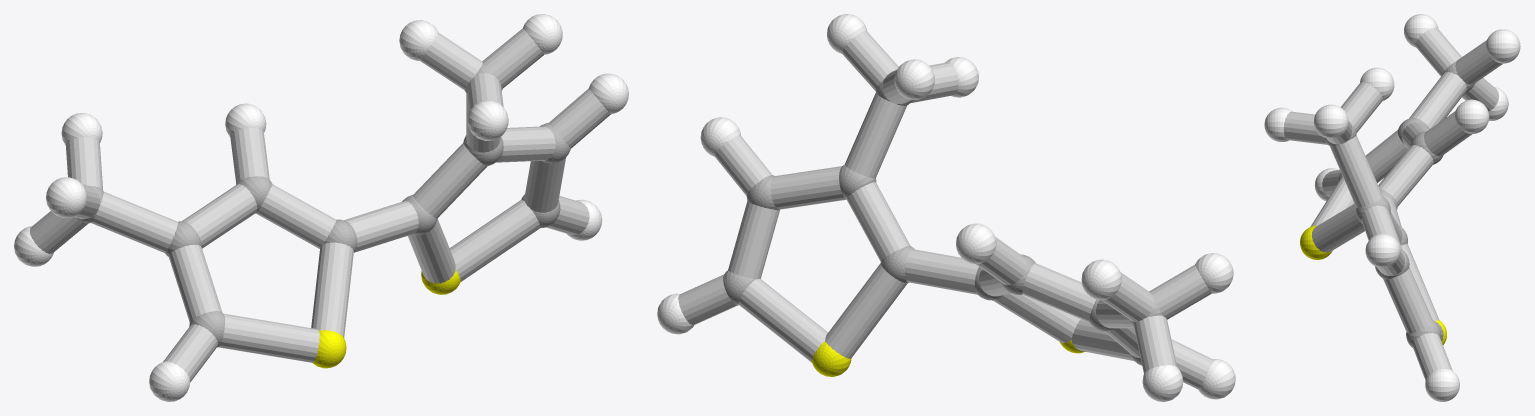
File: Methylthiophene_Phi_10_Theta_250_Methylthiophene.glb
3 views of the same model, side by side, from view 1: azimuth 30°, elevation 25°; view 2: azimuth 150°, elevation 25°; view 3: azimuth 270°, elevation 25° (orthographic). The views are drawn at different scales.
Visible parts, largest first — view 1: grp7965, grp3621, grp1, grp7241; view 2: grp7965, grp3621, grp1, grp7241; view 3: grp7965, grp3621, grp1, grp7241.
Part boxes in pixels (x1,y1,x2,y2): grp7965: [30, 28, 610, 382]; grp3621: [14, 14, 628, 401]; grp1: [77, 63, 570, 347]; grp7241: [312, 270, 460, 368]; grp7965: [678, 30, 1212, 389]; grp3621: [657, 14, 1235, 401]; grp1: [723, 80, 1162, 365]; grp7241: [812, 340, 1085, 376]; grp7965: [1283, 27, 1502, 380]; grp3621: [1264, 14, 1520, 401]; grp1: [1324, 61, 1475, 347]; grp7241: [1300, 225, 1446, 344].
Bounding box in the file's own units: 9.48 × 4.98 × 4.41.
